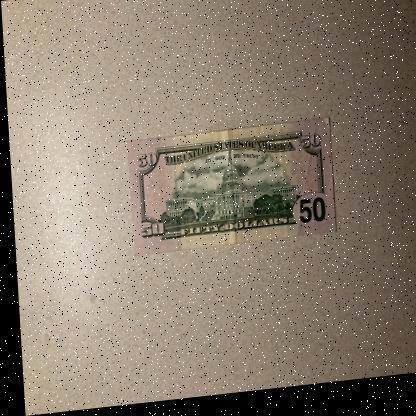fifty-back: (124, 122, 332, 258)
